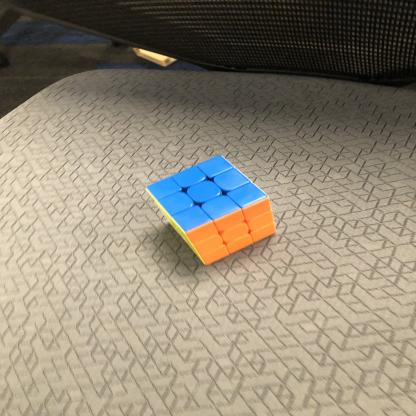SolvedCube: (139, 154, 280, 268)
